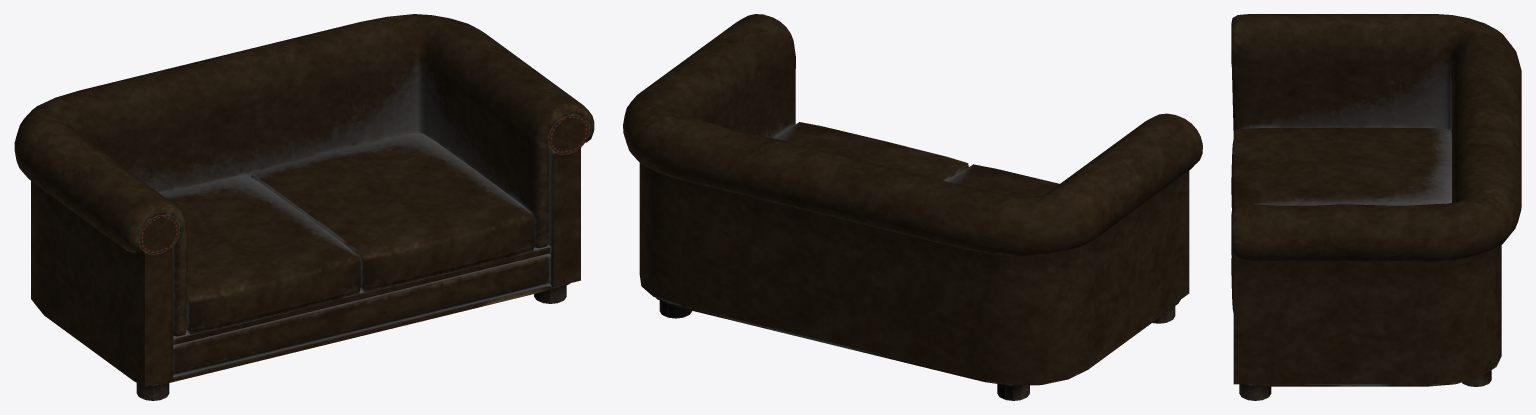
The model's file is ソファ.fbx.
3 views of the same model, side by side, from view 1: azimuth 30°, elevation 25°; view 2: azimuth 150°, elevation 25°; view 3: azimuth 270°, elevation 25° (orthographic). The views are drawn at different scales.
Parts seen in each view (by area): view 1: polySurface23; view 2: polySurface23; view 3: polySurface23.
Part boxes in pixels (x1,y1,x2,y2): polySurface23: [14, 14, 594, 400]; polySurface23: [623, 14, 1202, 400]; polySurface23: [1231, 14, 1521, 400].
Size of the model in its own units: 8.53 by 3.45 by 4.79.
2 materials, 2 textured.
